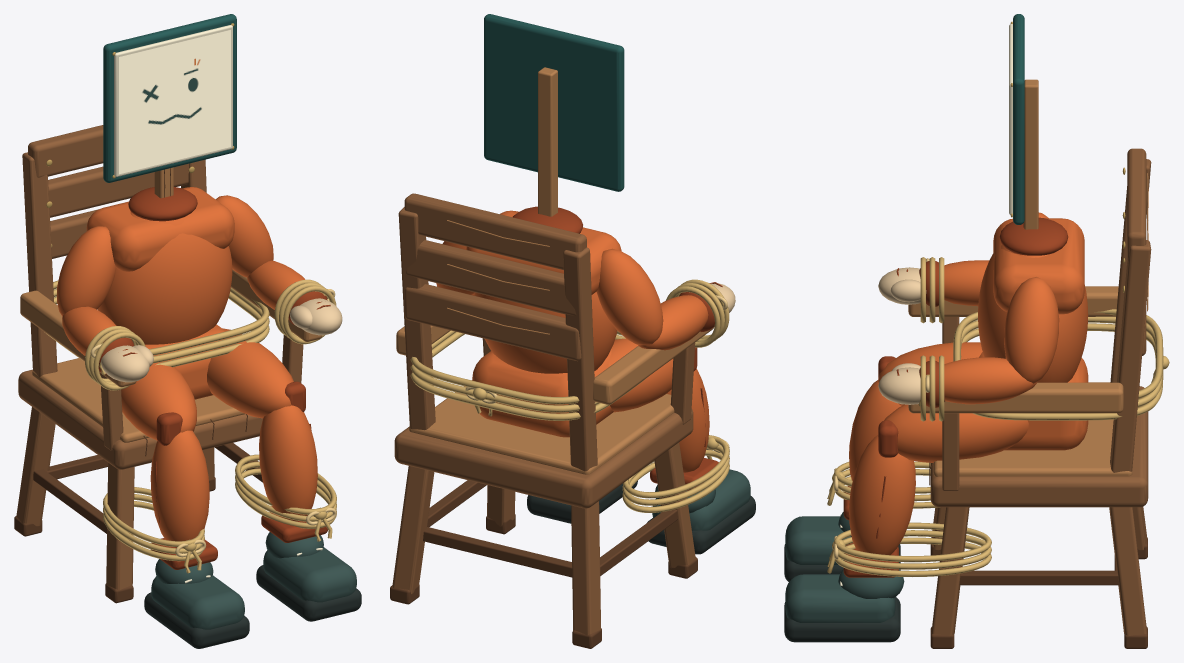
The model's file is chair_source.glb.
3 views of the same model, side by side, from view 1: azimuth 30°, elevation 25°; view 2: azimuth 150°, elevation 25°; view 3: azimuth 270°, elevation 25° (orthographic). The views are drawn at different scales.
Parts seen in each view (by area): view 1: Body, Chair, SignImage, Bindings, SignFrame, NeckStick; view 2: Chair, Body, SignFrame, Bindings, NeckStick; view 3: Body, Chair, Bindings, SignFrame, NeckStick.
Part boxes in pixels (<box>): Body: <box>57,187,361,648</box>; Chair: <box>14,125,322,603</box>; SignImage: <box>119,30,230,174</box>; Bindings: <box>44,279,336,573</box>; SignFrame: <box>103,14,236,182</box>; NeckStick: <box>154,167,173,198</box>; Chair: <box>390,193,714,648</box>; Body: <box>436,206,755,554</box>; SignFrame: <box>484,14,624,191</box>; Bindings: <box>410,279,729,512</box>; NeckStick: <box>538,67,557,216</box>; Body: <box>784,212,1088,642</box>; Chair: <box>908,148,1151,648</box>; Bindings: <box>827,257,1169,576</box>; SignFrame: <box>1009,14,1024,224</box>; NeckStick: <box>1023,79,1038,229</box>.
Size of the model in its own units: 0.952 by 1.94 by 1.22.
Materials: 14 (1 with a texture image).
